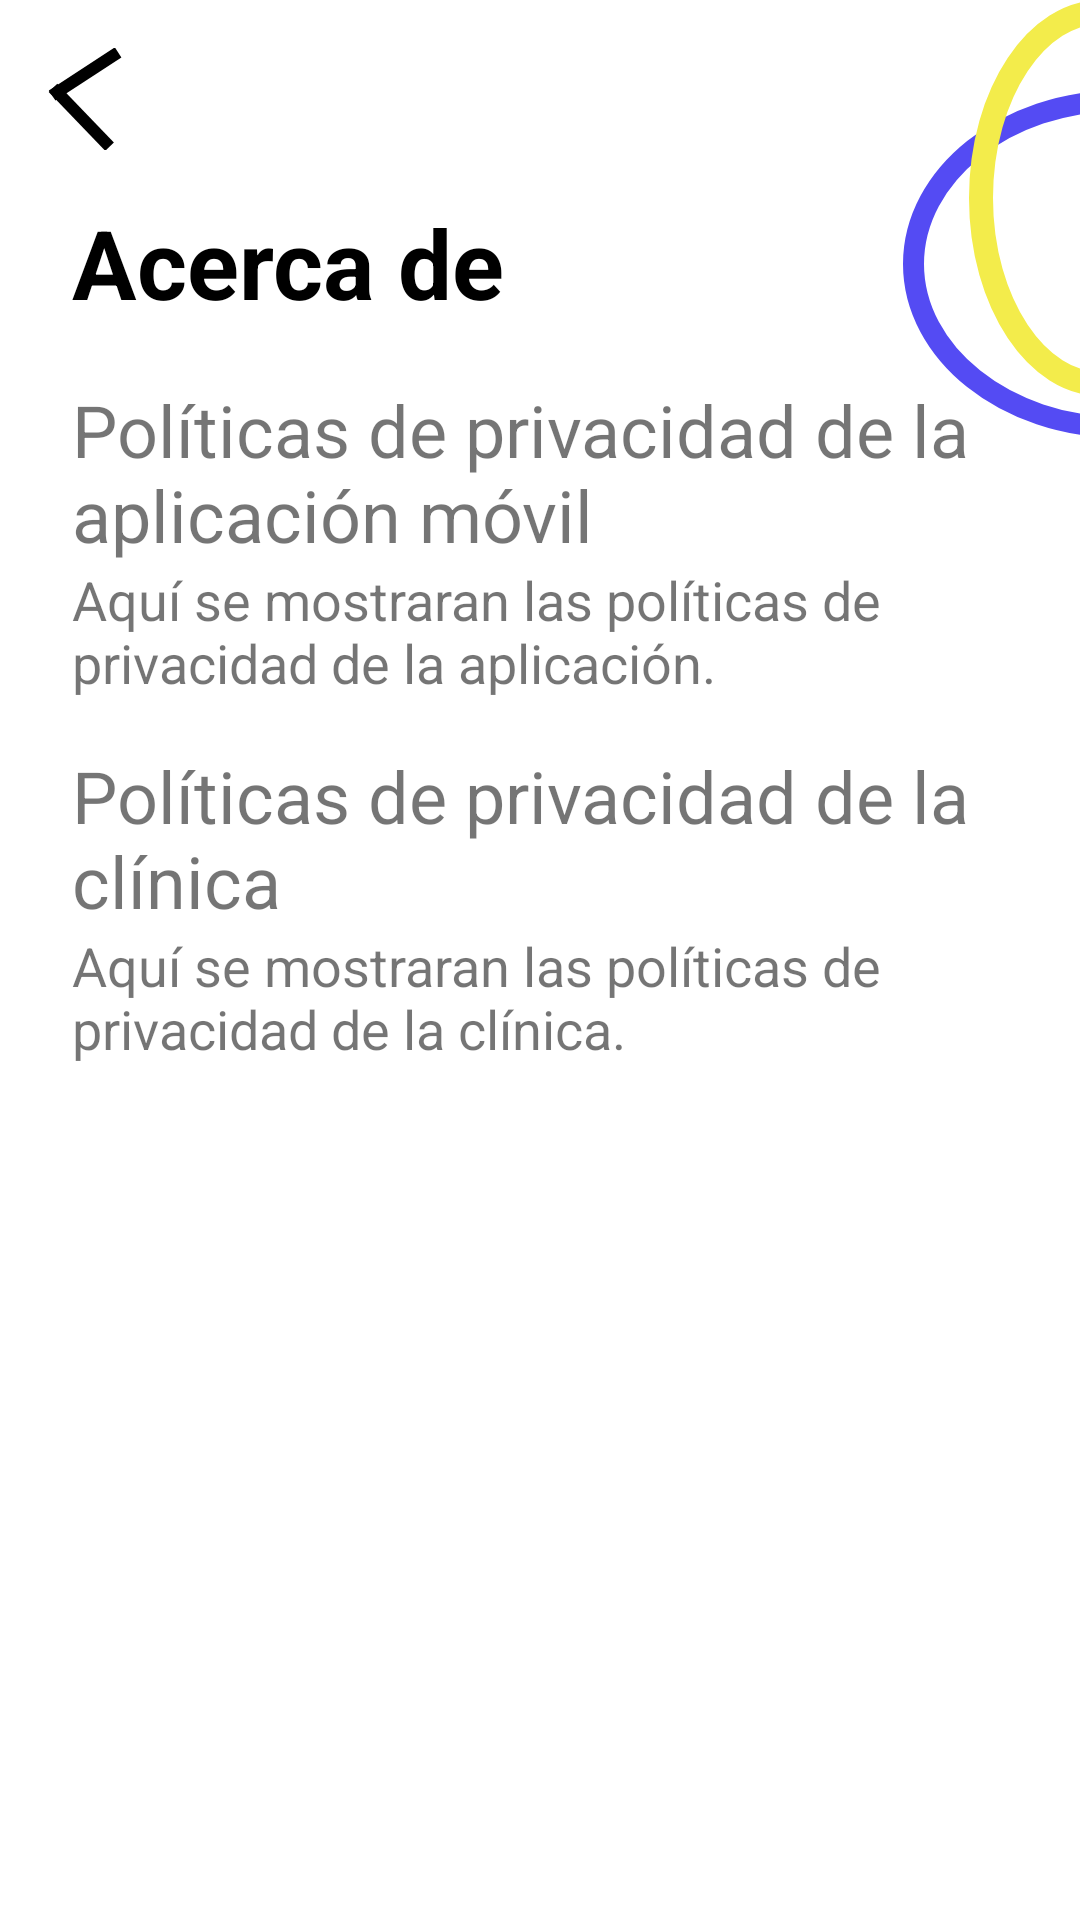

Locate icon controls on the screen. Image size 1080×1920, boxes as {"x1": x1, "y1": y1, "x2": x2, "y2": y2}.
regresar: {"x1": 49, "y1": 48, "x2": 122, "y2": 150}
